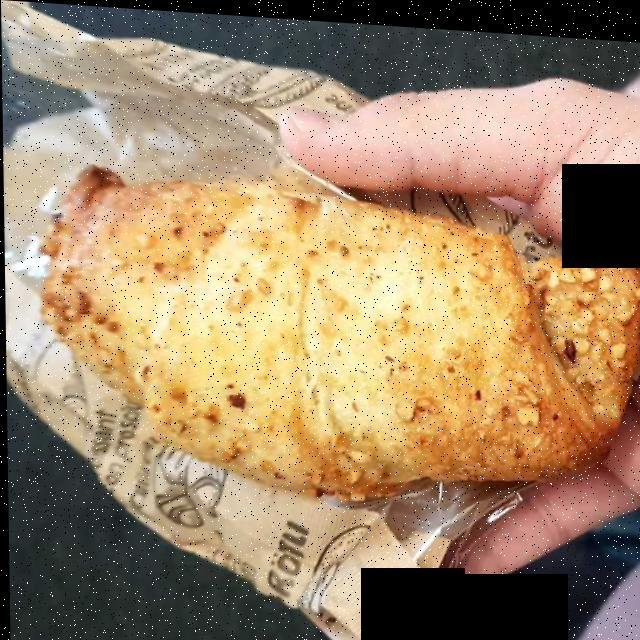croissant: (40, 166, 628, 488)
